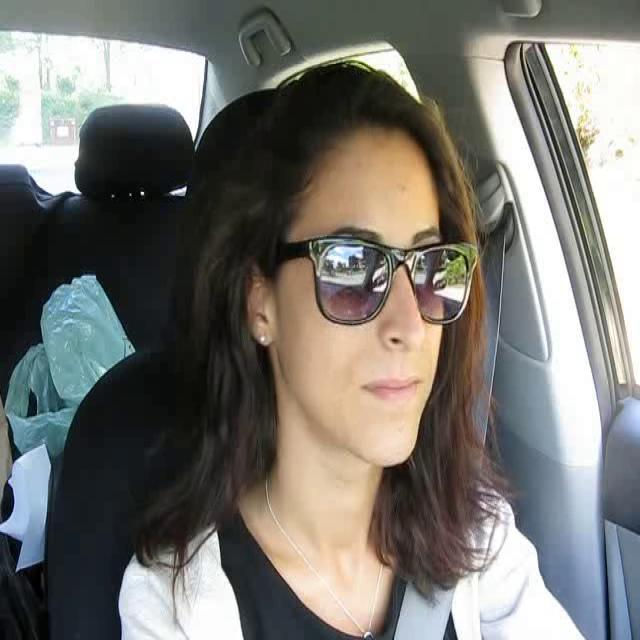close: (360, 368, 426, 408)
